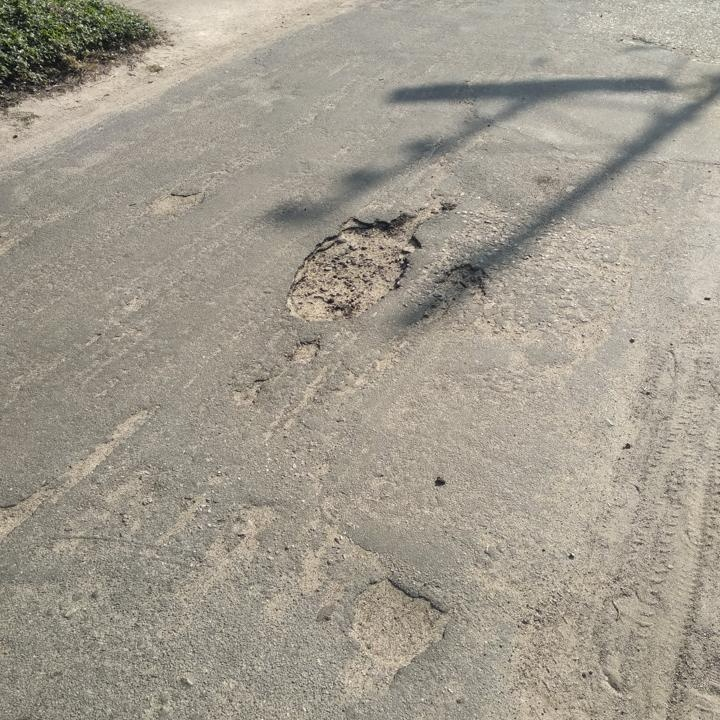pothole: (277, 196, 450, 325), (335, 571, 454, 694), (415, 260, 489, 328), (0, 479, 48, 542), (148, 185, 208, 218)
